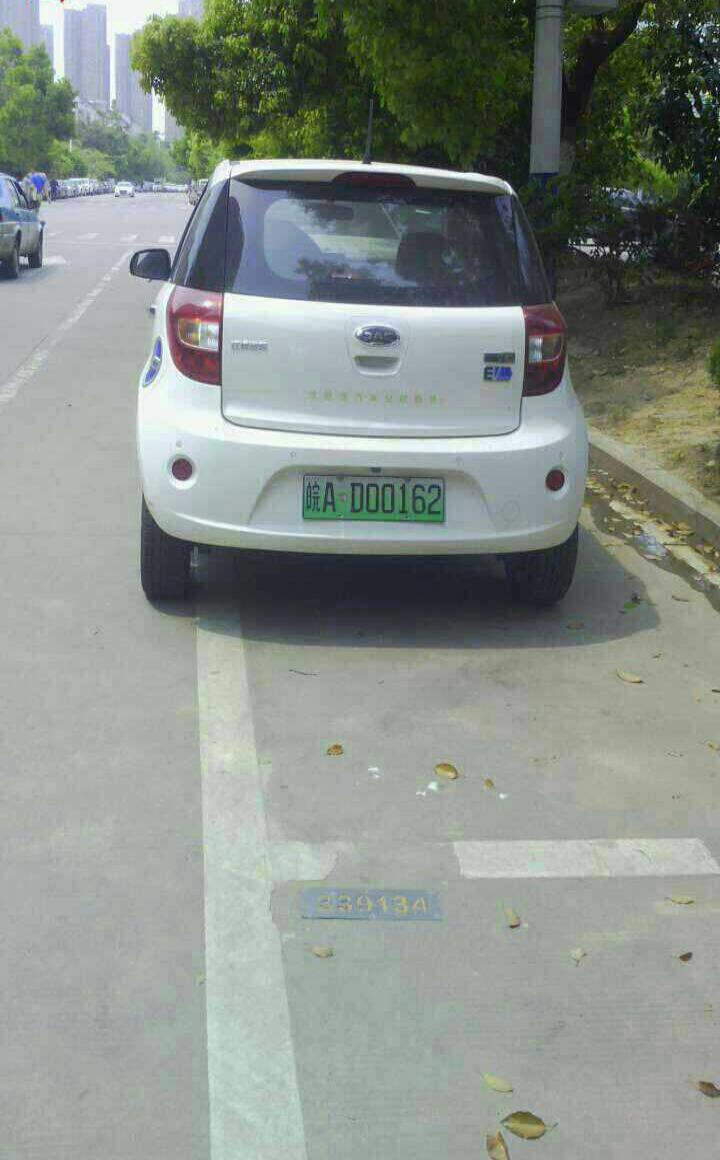car: (300, 475, 451, 526)
